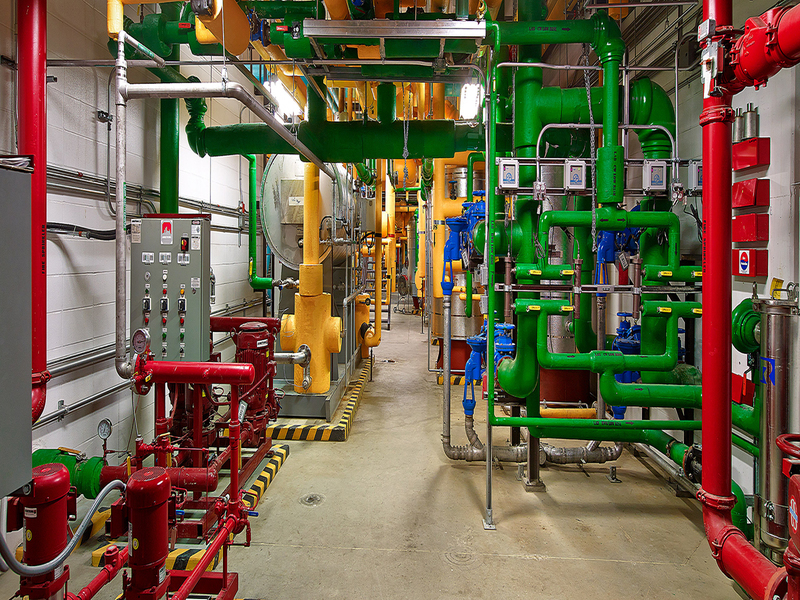valve: (121, 454, 136, 485), (174, 20, 200, 33), (652, 304, 676, 318), (488, 69, 500, 97), (655, 268, 679, 280), (521, 303, 544, 314), (243, 256, 255, 277), (521, 267, 544, 275), (559, 303, 576, 313), (687, 306, 705, 315), (692, 269, 708, 279), (555, 268, 576, 275)
